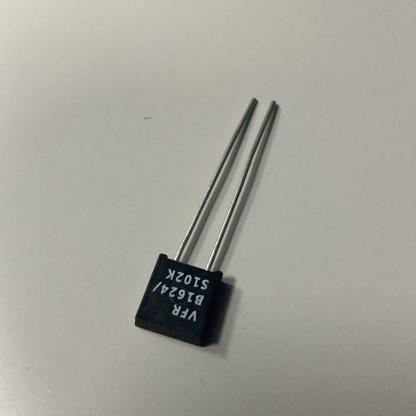SP0000008: (97, 79, 331, 356)
